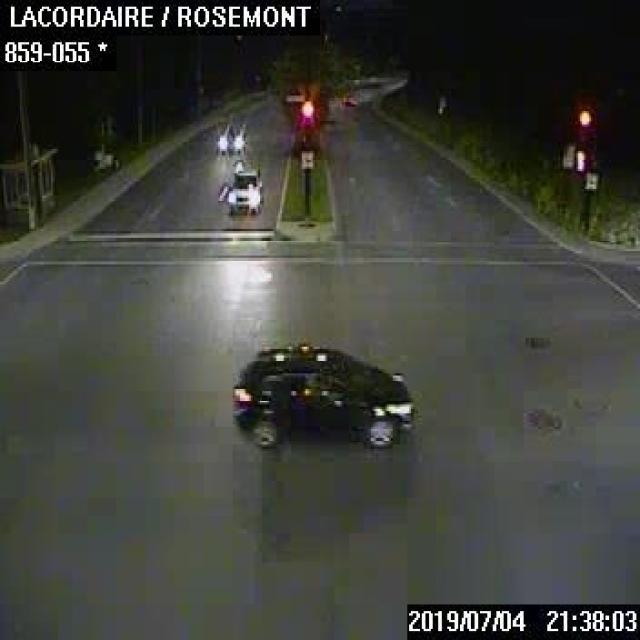vehicle: (230, 343, 414, 449), (225, 167, 262, 213), (217, 121, 245, 153)
